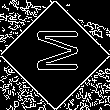M_W: (30, 32, 80, 78)
